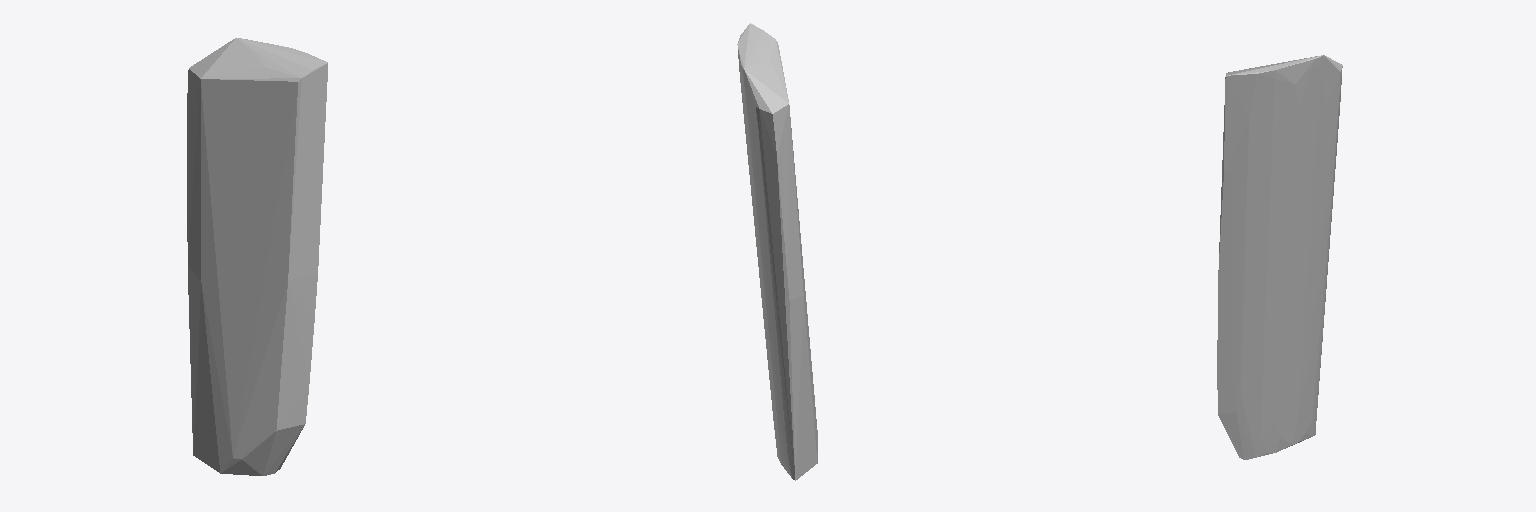
File: trash_bin_collision_1.obj
3 views of the same model, side by side, from view 1: azimuth 30°, elevation 25°; view 2: azimuth 150°, elevation 25°; view 3: azimuth 270°, elevation 25° (orthographic).
Bounding box in the file's own units: 0.0546 × 0.2335 × 0.0656.